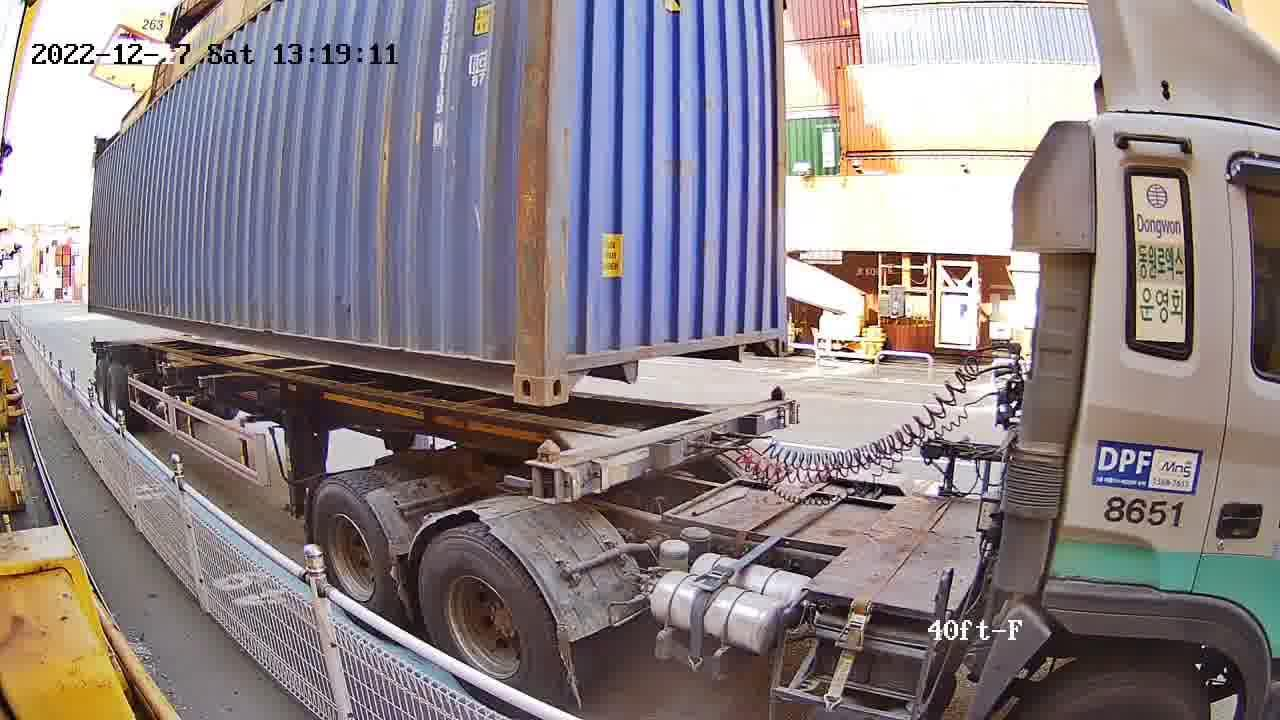Chassis: (550, 397, 795, 502)
Cone: (525, 437, 559, 501), (767, 384, 787, 419)
Hole_L: (544, 340, 598, 406)
Hole_R: (490, 335, 544, 408), (757, 316, 789, 356)
Tire: (420, 535, 553, 694), (309, 485, 393, 612)
